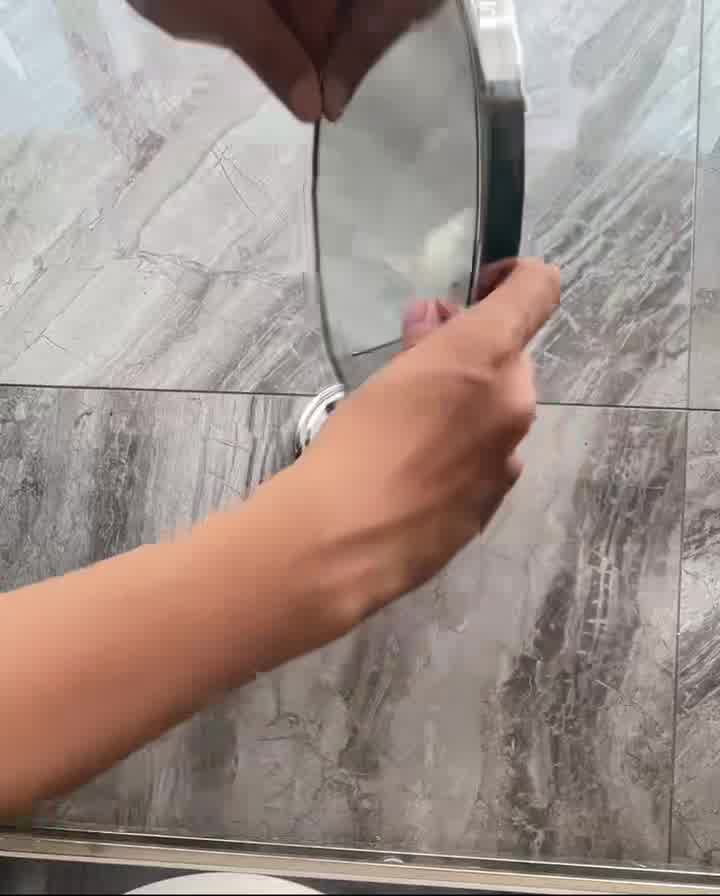mirror: (294, 6, 532, 398)
